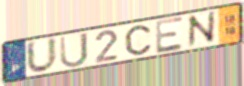2: (94, 29, 119, 65)
C: (123, 24, 152, 56)
E: (154, 15, 185, 55)
N: (186, 9, 218, 50)
U: (25, 35, 60, 75), (58, 31, 90, 70)
